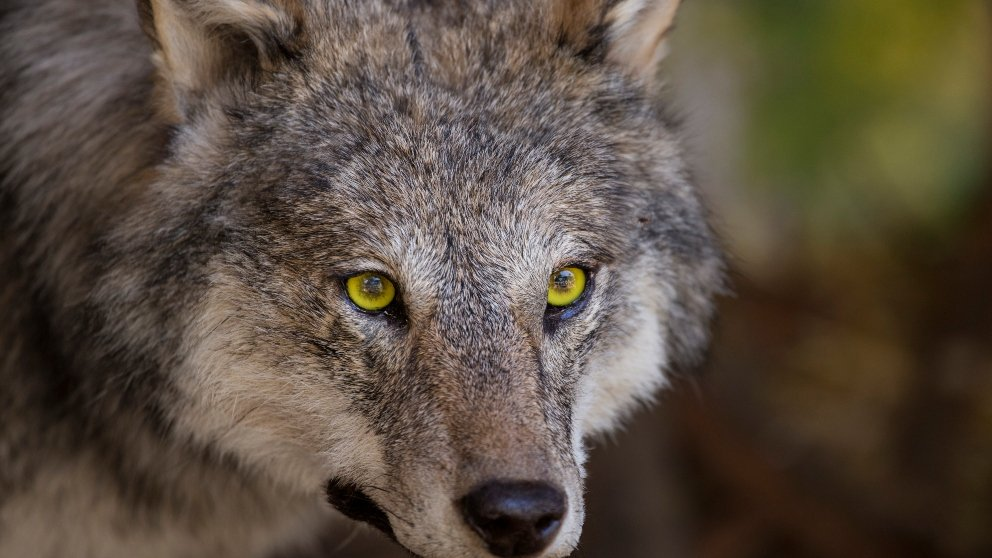Lobo: (101, 1, 736, 547)
